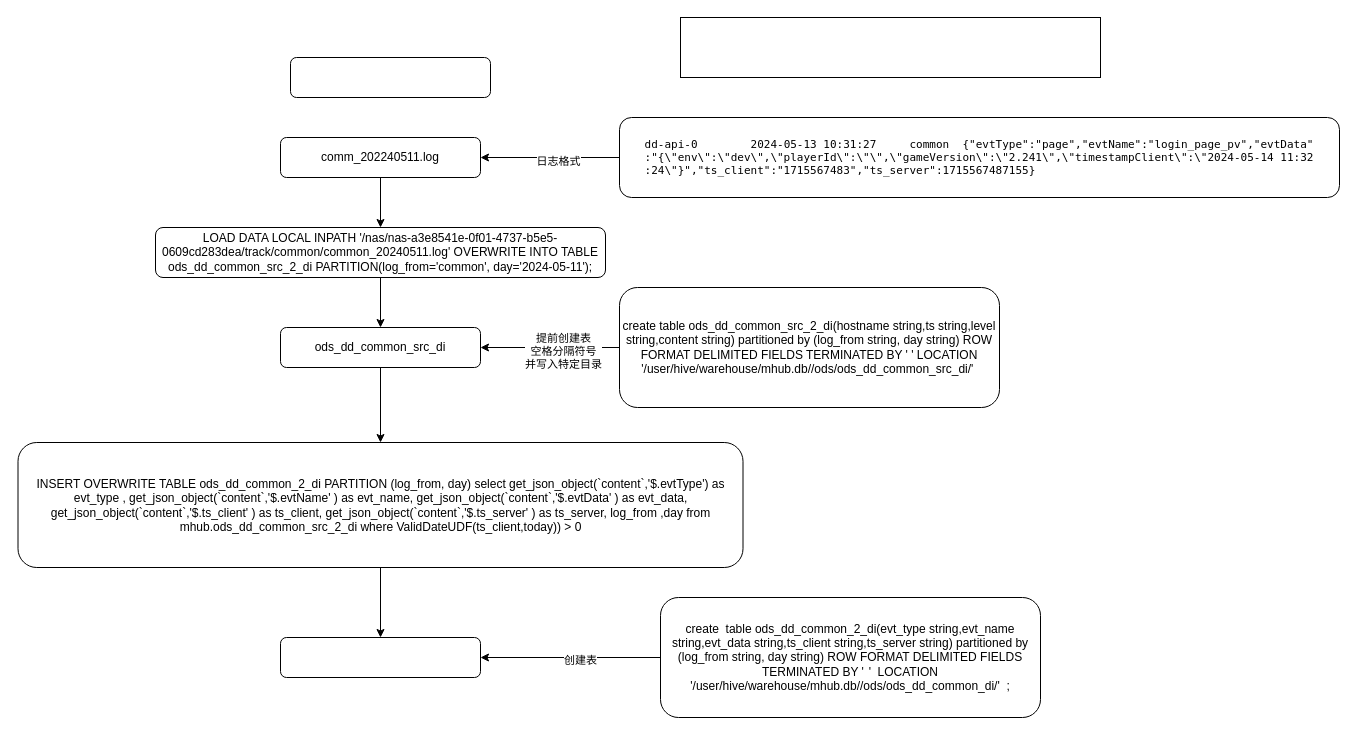
Image size: 1357x735. Some labels were removed from this diagram. The shapes that lost their labels are listed below. From the top down, each one's centre as x and y in pixels, then its label:
(x=890, y=47): 以日志common_20240511.log为例
(x=390, y=77): 使用前提，使用mhub库 use mhub;
(x=380, y=657): ods_dd_common_2_di
